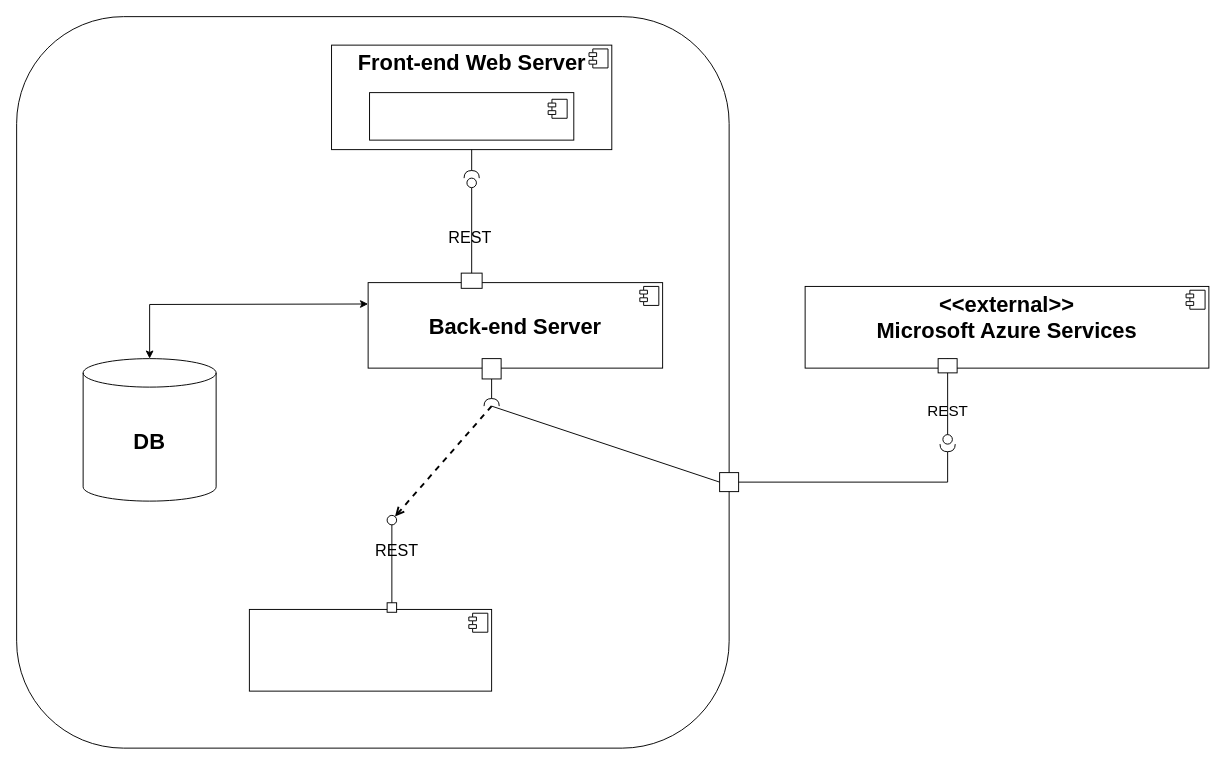
This 1226x765 diagram has some shape labels left out. Here are the shapes that lost their labels. From the top down, the centre of each, then its label:
At (x=471, y=116): "GUI".
At (x=370, y=649): "Authentication Server".
